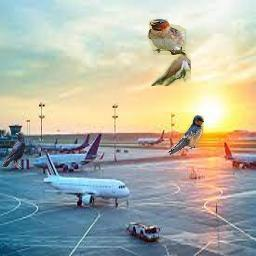Crow: (2, 132, 25, 168)
Cuckoo: (151, 55, 191, 86)
Swallow: (166, 115, 204, 155), (147, 19, 187, 55)
